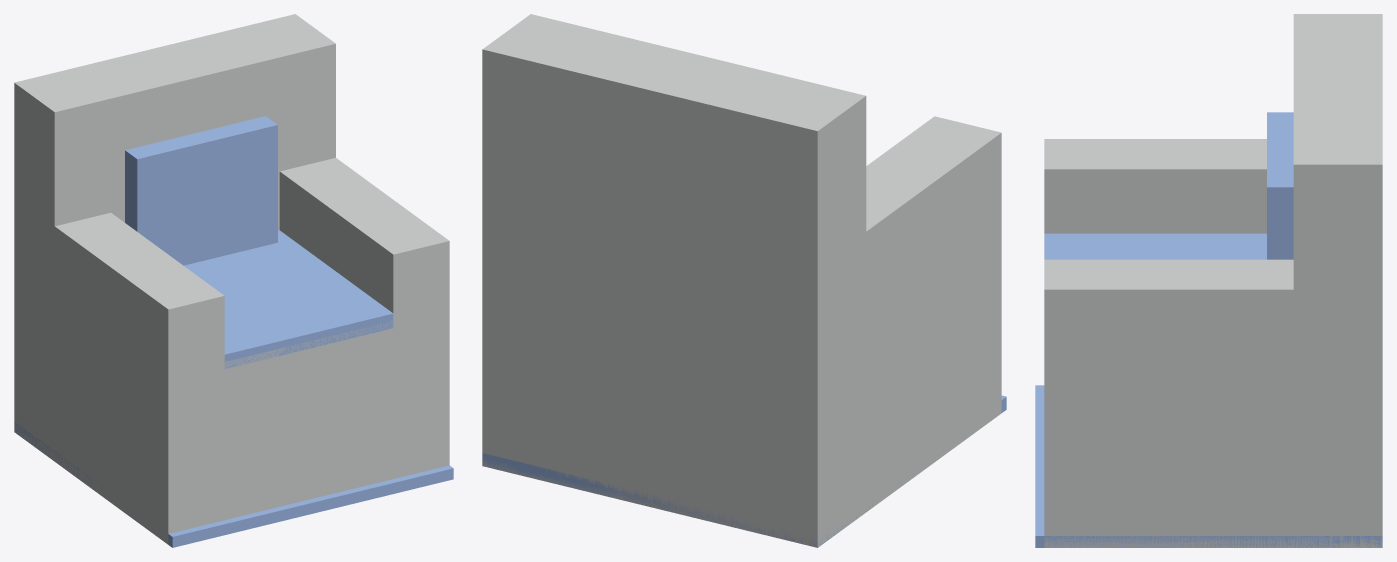
File: armchairSlipcover.glb
3 renders of one model, left to right at view 1: azimuth 30°, elevation 25°; view 2: azimuth 150°, elevation 25°; view 3: azimuth 270°, elevation 25°, orthographic. The views are drawn at different scales.
Visible parts, largest first — view 1: armchairSlipcover; view 2: armchairSlipcover; view 3: armchairSlipcover.
Part boxes in pixels (left/top/right/bottom): armchairSlipcover: left=14, top=14, right=453, bottom=547; armchairSlipcover: left=482, top=14, right=1006, bottom=547; armchairSlipcover: left=1035, top=14, right=1382, bottom=547.
Bounding box in the file's own units: 0.4 × 0.475 × 0.39.
